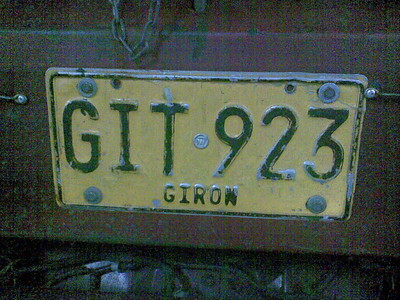placa_carro: (42, 62, 372, 227)
